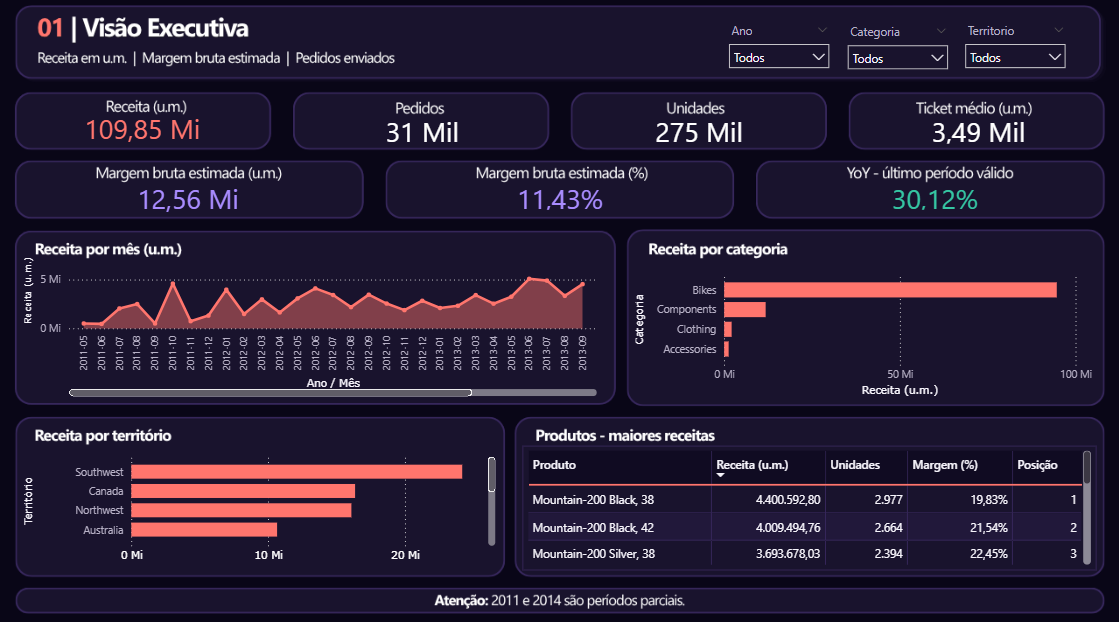

The page's visual inventory and layout, read from the dashboard file:
{"tool":"powerbi","page":{"name":"01 | Visão Executiva","canvas":[1280,720],"ordinal":0},"visuals":[{"type":"slicer","fields":{"Values":["DimCalendario.Ano"]},"box":[822.8,24.1,135.1,56.7],"z":0},{"type":"slicer","fields":{"Values":["DimProduto.Categoria"]},"box":[957.9,24.1,135.1,56.7],"z":1000},{"type":"slicer","fields":{"Values":["DimTerritorio.Territorio"]},"box":[1093,24.1,135.1,56.7],"z":2000},{"type":"card","fields":{"Values":["Medidas.Receita de Produtos"]},"box":[15.7,130,294.3,42.9],"z":3000},{"type":"card","fields":{"Values":["Medidas.Margem Bruta Estimada"]},"box":[15.7,208.6,398.6,45.7],"z":4000},{"type":"card","fields":{"Values":["Medidas.Margem Bruta Estimada %"]},"box":[442.9,212.9,394.3,35.7],"z":5000},{"type":"card","fields":{"Values":["Medidas.Unidades Vendidas"]},"box":[654.3,135.7,290,37.1],"z":6000},{"type":"card","fields":{"Values":["Medidas.Pedidos"]},"box":[335.7,135.7,294.3,37.1],"z":7000},{"type":"card","fields":{"Values":["Medidas.Ticket Médio"]},"box":[972.9,135.7,291.4,37.1],"z":8000},{"type":"card","fields":{"Values":["Medidas.Crescimento YoY %"]},"box":[872.9,212.9,391.4,35.7],"z":9000},{"type":"lineChart","fields":{"Category":["DimCalendario.AnoMes"],"Y":["Medidas.Receita de Produtos"]},"box":[23.3,275.6,664.4,185.6],"z":10000},{"type":"barChart","fields":{"Category":["DimProduto.Categoria"],"Y":["Medidas.Receita de Produtos"]},"box":[721,304,532,157],"z":11000},{"type":"barChart","fields":{"Category":["DimTerritorio.Territorio"],"Y":["Medidas.Receita de Produtos"]},"box":[23.3,512.5,548.3,142.5],"z":12000},{"type":"tableEx","fields":{"Values":["DimProduto.NomeProduto","Medidas.Receita de Produtos","Medidas.Unidades Vendidas","Medidas.Margem Bruta Estimada %","Medidas.Ranking Produto Receita"]},"box":[596.9,513.1,656.2,142.3],"z":13000}]}

Visuals, with their boxes in screenshot pixels (x1, y1, x2, y2), scaled from the page's 1280x720 canvas onto the 1119x622 screenshot:
slicer - DimCalendario.Ano: 719 21 837 70
slicer - DimProduto.Categoria: 837 21 956 70
slicer - DimTerritorio.Territorio: 956 21 1074 70
card - Medidas.Receita de Produtos: 14 112 271 149
card - Medidas.Margem Bruta Estimada: 14 180 362 220
card - Medidas.Margem Bruta Estimada %: 387 184 732 215
card - Medidas.Unidades Vendidas: 572 117 826 149
card - Medidas.Pedidos: 293 117 551 149
card - Medidas.Ticket Médio: 851 117 1105 149
card - Medidas.Crescimento YoY %: 763 184 1105 215
lineChart - DimCalendario.AnoMes x Medidas.Receita de Produtos: 20 238 601 398
barChart - DimProduto.Categoria x Medidas.Receita de Produtos: 630 263 1095 398
barChart - DimTerritorio.Territorio x Medidas.Receita de Produtos: 20 443 500 566
tableEx - DimProduto.NomeProduto x Medidas.Receita de Produtos: 522 443 1095 566
